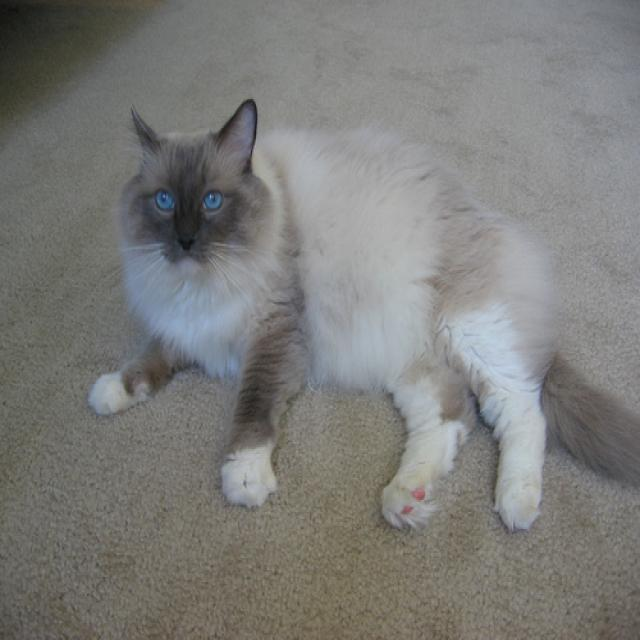cat: (129, 97, 256, 273)
